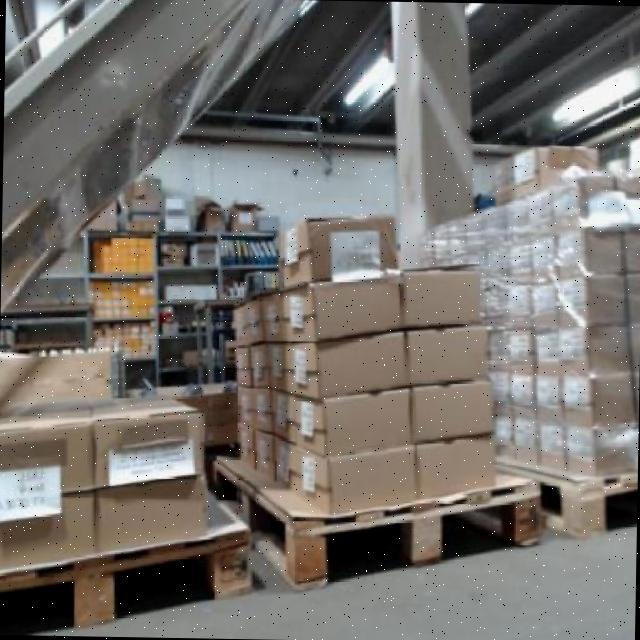pallet: (199, 447, 555, 606), (0, 512, 269, 633)
